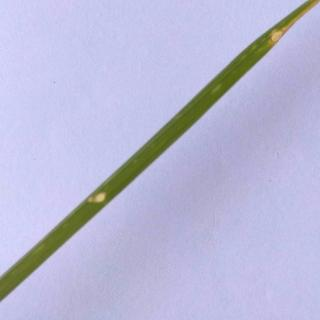Blast: (88, 183, 114, 209), (265, 31, 289, 47)
